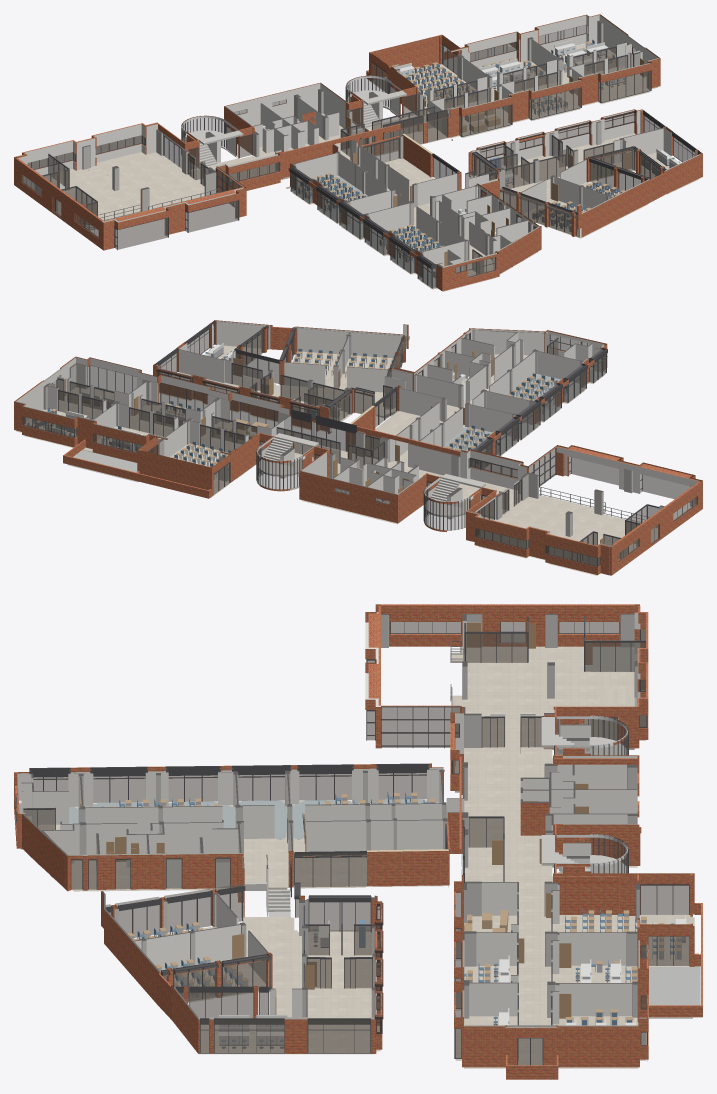
The model's file is floor-3.glb.
3 renders of one model, top to bottom at view 1: azimuth 30°, elevation 25°; view 2: azimuth 150°, elevation 25°; view 3: azimuth 270°, elevation 25°, orthographic. The views are drawn at different scales.
Parts seen in each view (by area): view 1: P3_Fachada_Compartida, P3_B_Walls, P3_A_Floor_Slab, P3_B_Glass, P3_A_Walls, P3_A_Glass, P3_B_Floor_Slab, P3_A_Columns, P3_B_Columns, P3_B_Glass_Mullions, P3_A_Furniture_3_3, P3_A_Glass_Mullions (+18 smaller); view 2: P3_Fachada_Compartida, P3_B_Walls, P3_A_Floor_Slab, P3_A_Walls, P3_A_Glass, P3_B_Glass, P3_B_Floor_Slab, P3_A_Columns, P3_B_Columns, P3_B_Glass_Mullions, P3_A_Fachada_Norte_Oeste_Mamposteria, P3_A_Glass_Mullions (+19 smaller); view 3: P3_Fachada_Compartida, P3_A_Floor_Slab, P3_B_Walls, P3_B_Glass, P3_B_Floor_Slab, P3_A_Walls, P3_A_Glass, P3_A_Columns, P3_B_Columns, P3_A_Fachada_Oeste_Mamposteria, P3_B_Floor_Zones, P3_A_Fachada_Oeste_Bandas (+20 smaller).
Boxes of the visible parts, x1,y1,x2,y2 form: P3_Fachada_Compartida: (14,14,702,291); P3_B_Walls: (295,122,663,287); P3_A_Floor_Slab: (49,43,657,230); P3_B_Glass: (291,136,659,288); P3_A_Walls: (77,39,642,225); P3_A_Glass: (35,45,639,224); P3_B_Floor_Slab: (286,133,699,291); P3_A_Columns: (23,20,652,211); P3_B_Columns: (292,121,624,269); P3_B_Glass_Mullions: (290,135,663,288); P3_A_Furniture_3_3: (432,39,625,103); P3_A_Glass_Mullions: (42,44,634,216); P3_Fachada_Compartida: (14,320,702,575); P3_B_Walls: (179,322,601,455); P3_A_Floor_Slab: (16,387,657,575); P3_A_Walls: (47,375,694,519); P3_A_Glass: (57,379,659,558); P3_B_Glass: (232,330,606,455); P3_B_Floor_Slab: (159,345,604,468); P3_A_Columns: (43,363,695,546); P3_B_Columns: (221,330,601,448); P3_B_Glass_Mullions: (231,328,606,466); P3_A_Fachada_Norte_Oeste_Mamposteria: (474,524,609,575); P3_A_Glass_Mullions: (58,380,647,560); P3_Fachada_Compartida: (14,604,702,1079); P3_A_Floor_Slab: (450,646,694,1068); P3_B_Walls: (21,769,443,1017); P3_B_Glass: (23,773,426,1018); P3_B_Floor_Slab: (21,799,448,1054); P3_A_Walls: (454,614,639,1058); P3_A_Glass: (466,633,689,965); P3_A_Columns: (381,614,640,1018); P3_B_Columns: (25,769,449,1017); P3_A_Fachada_Oeste_Mamposteria: (389,616,620,646); P3_B_Floor_Zones: (69,799,429,888); P3_A_Fachada_Oeste_Bandas: (381,604,634,616).
Size of the model in its own units: 79.06 by 5.43 by 53.17.
26 materials, 5 textured.
